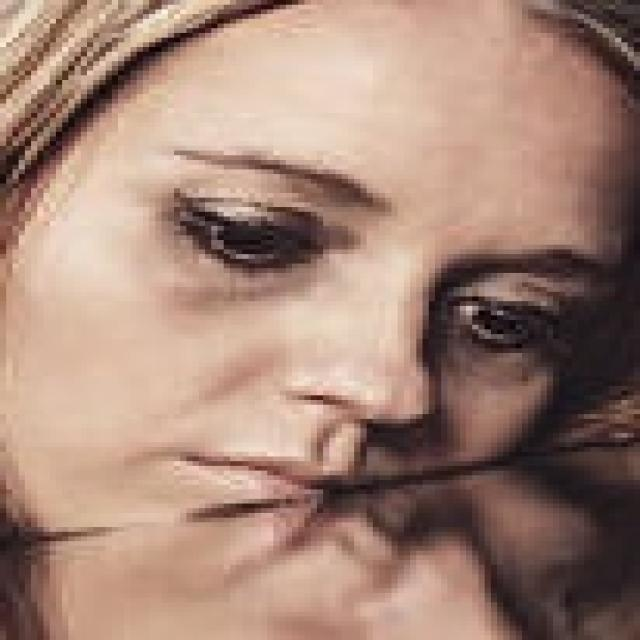Anxiety: (0, 0, 634, 534)
